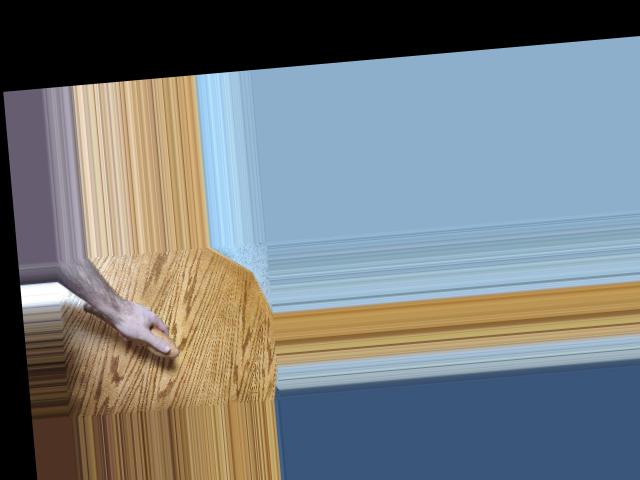sweet_potato: (81, 296, 181, 367)
